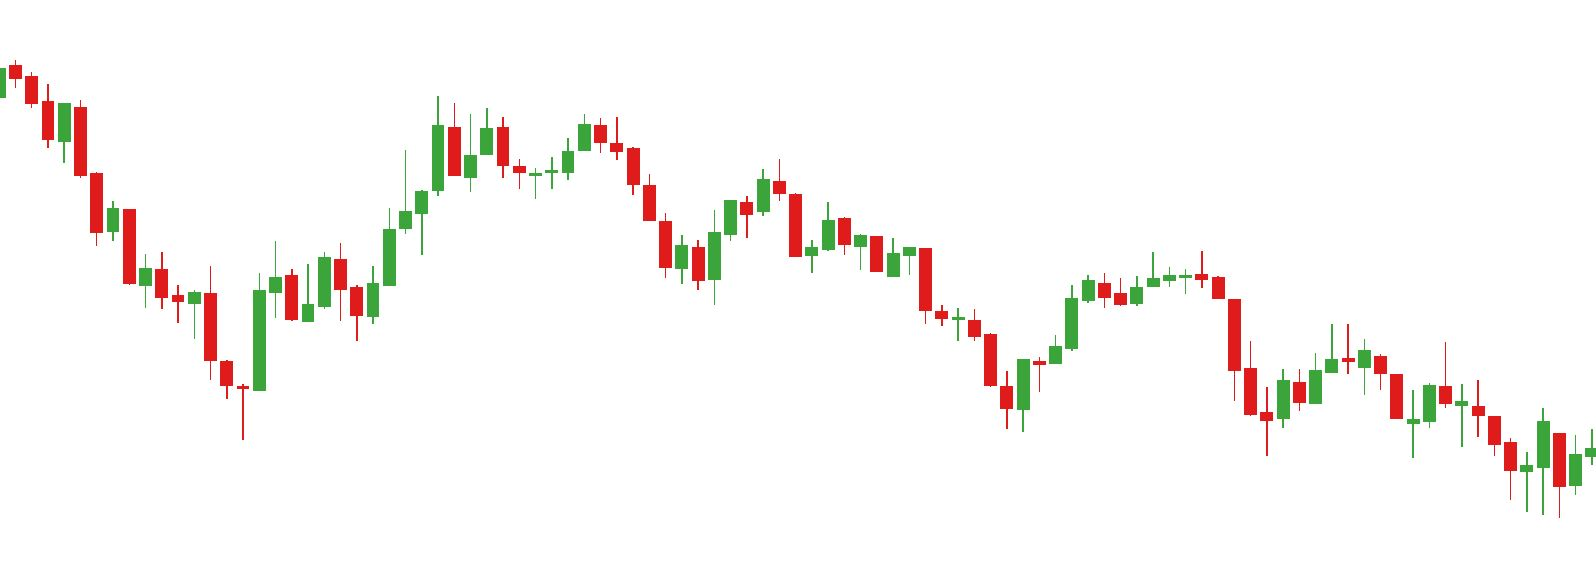sell: (1244, 326, 1339, 400), (493, 115, 609, 169)
